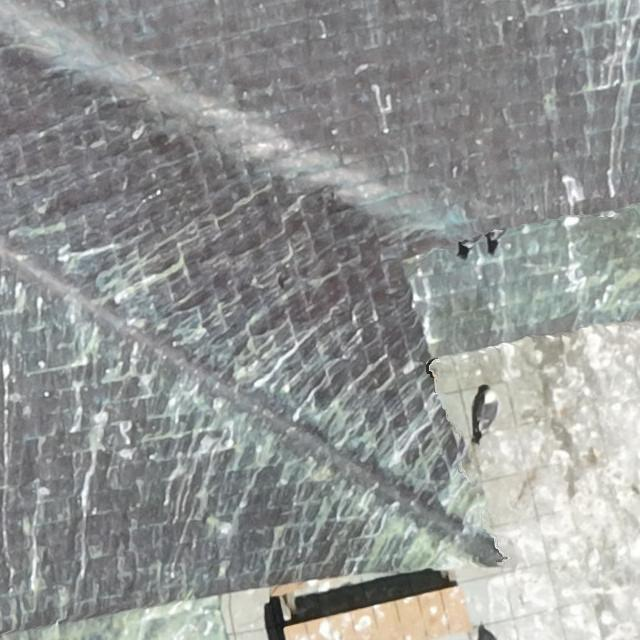umineko: (478, 394, 497, 427), (478, 626, 497, 640)
